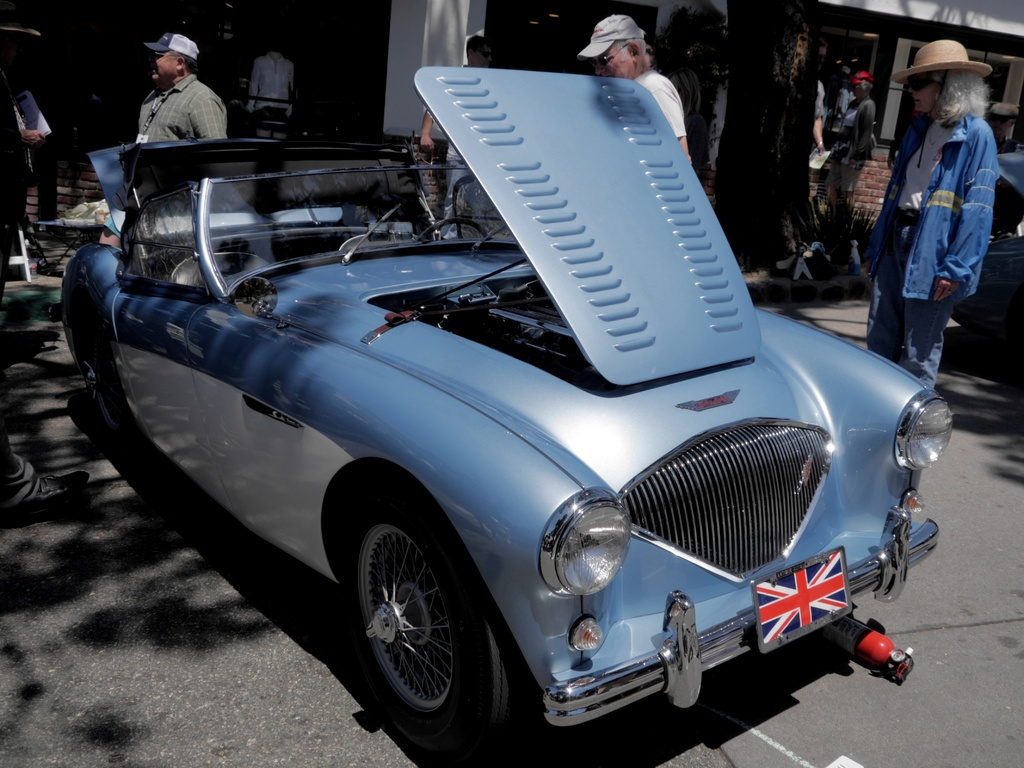Car: (52, 65, 960, 760)
